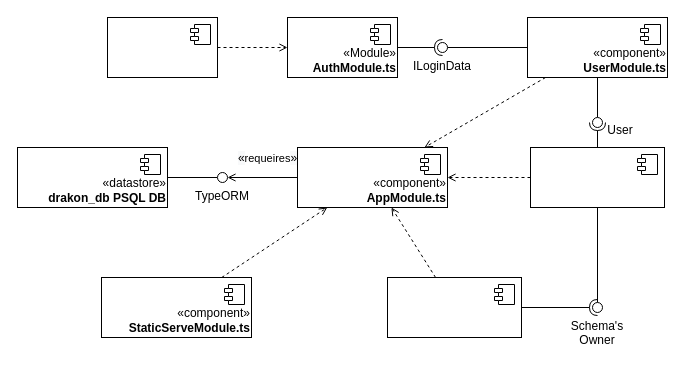
Image size: 685x366. Some labels were removed from this diagram. The centre of each missing label's shape, as x and y in pixels:
"«component» CuratorModule.ts" goes at point 597,177.
"«component» SchemaModule.ts" goes at point 454,307.
"«Module» CryptModule.ts" goes at point 162,47.
